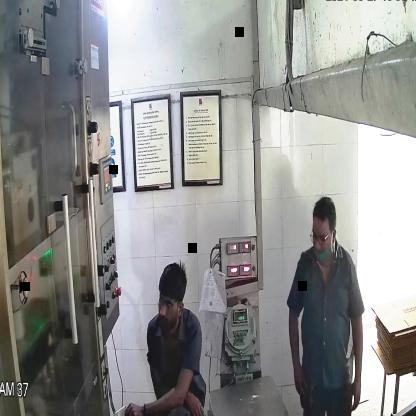goggles: (308, 226, 336, 250)
no_goggles: (154, 292, 182, 312)
